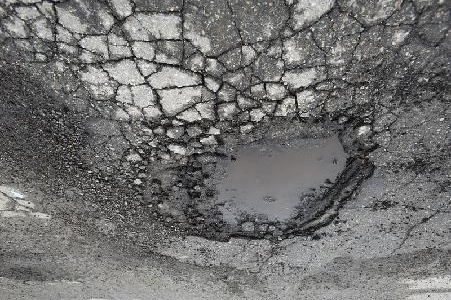pothole: (130, 106, 379, 247)
